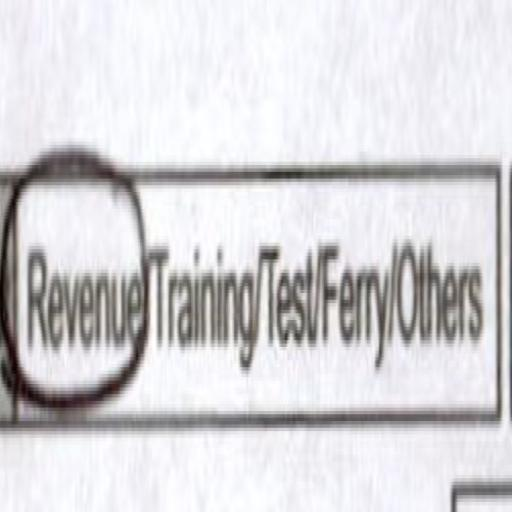check: (25, 91, 151, 512)
